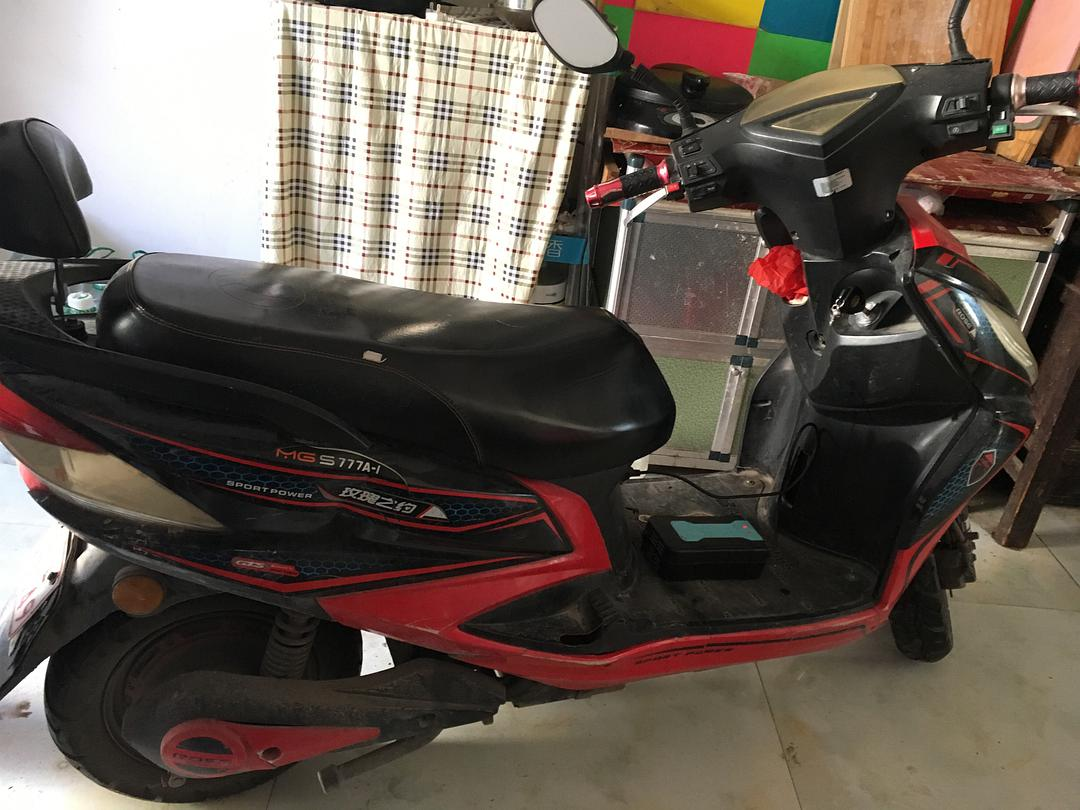电动车: (2, 10, 1048, 792)
